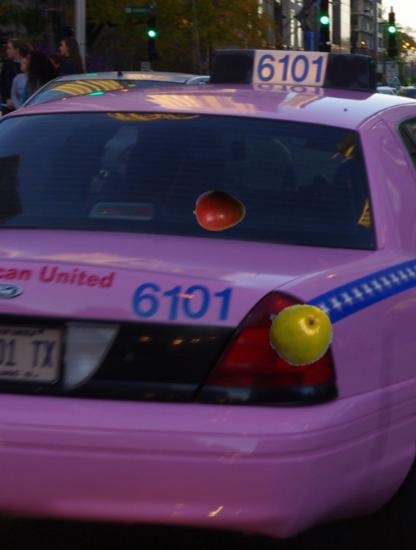Mango: (192, 184, 247, 239)
Maracuja: (267, 302, 333, 368)
